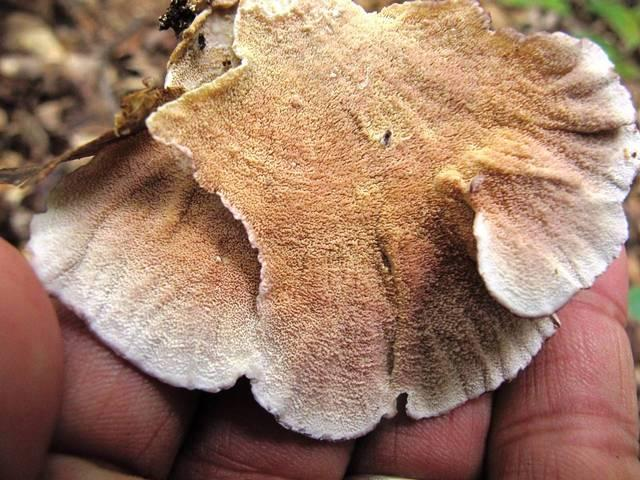poisonous_mushroom: (4, 0, 638, 443)
